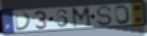3: (33, 10, 48, 31)
6: (56, 9, 70, 28)
D: (14, 11, 33, 32)
M: (71, 6, 93, 29)
O: (114, 4, 132, 25)
S: (95, 5, 113, 27)
